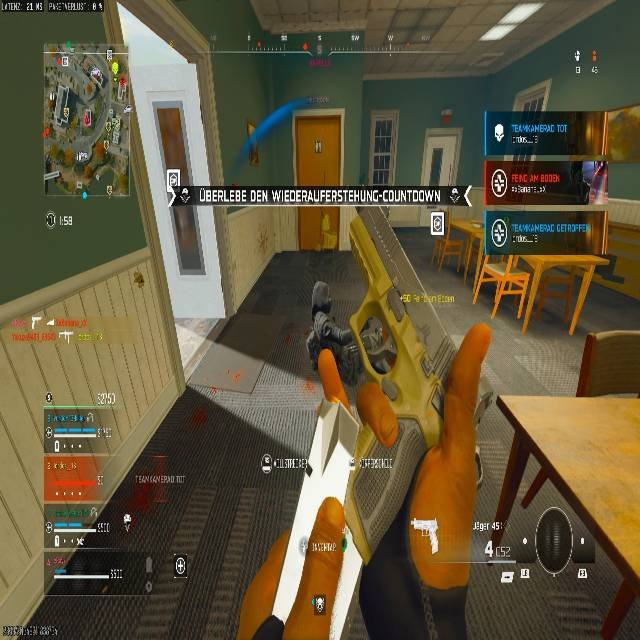head: (311, 300, 331, 316)
player: (305, 293, 348, 378)
